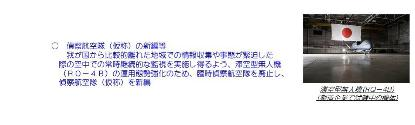P3: (302, 39, 408, 54)
